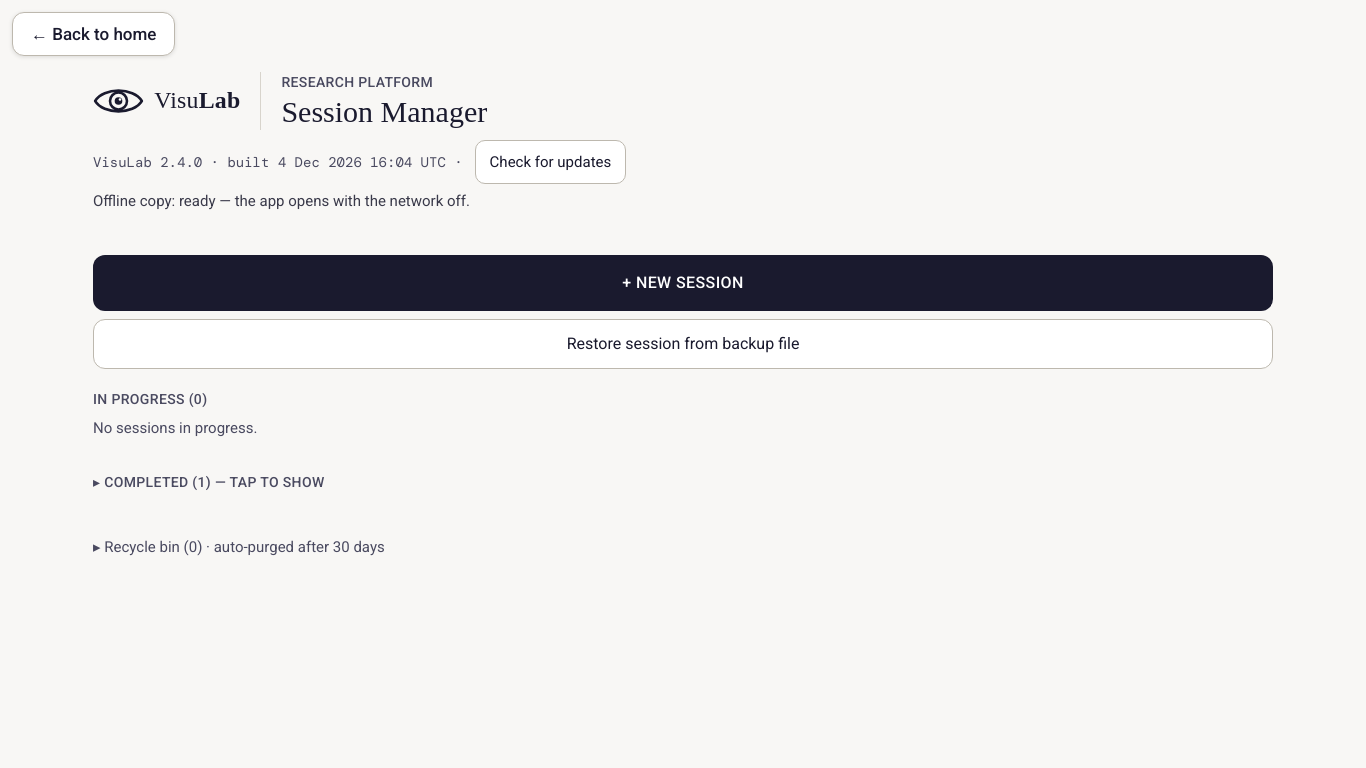
it: the screens use it › the Session Manager lists a restored sitting at the tablet's time, not the viewing device's
The image size is (1366, 768).
Click the button with test id "completed-toggle". click: (209, 482)
box: [93,460,325,504]
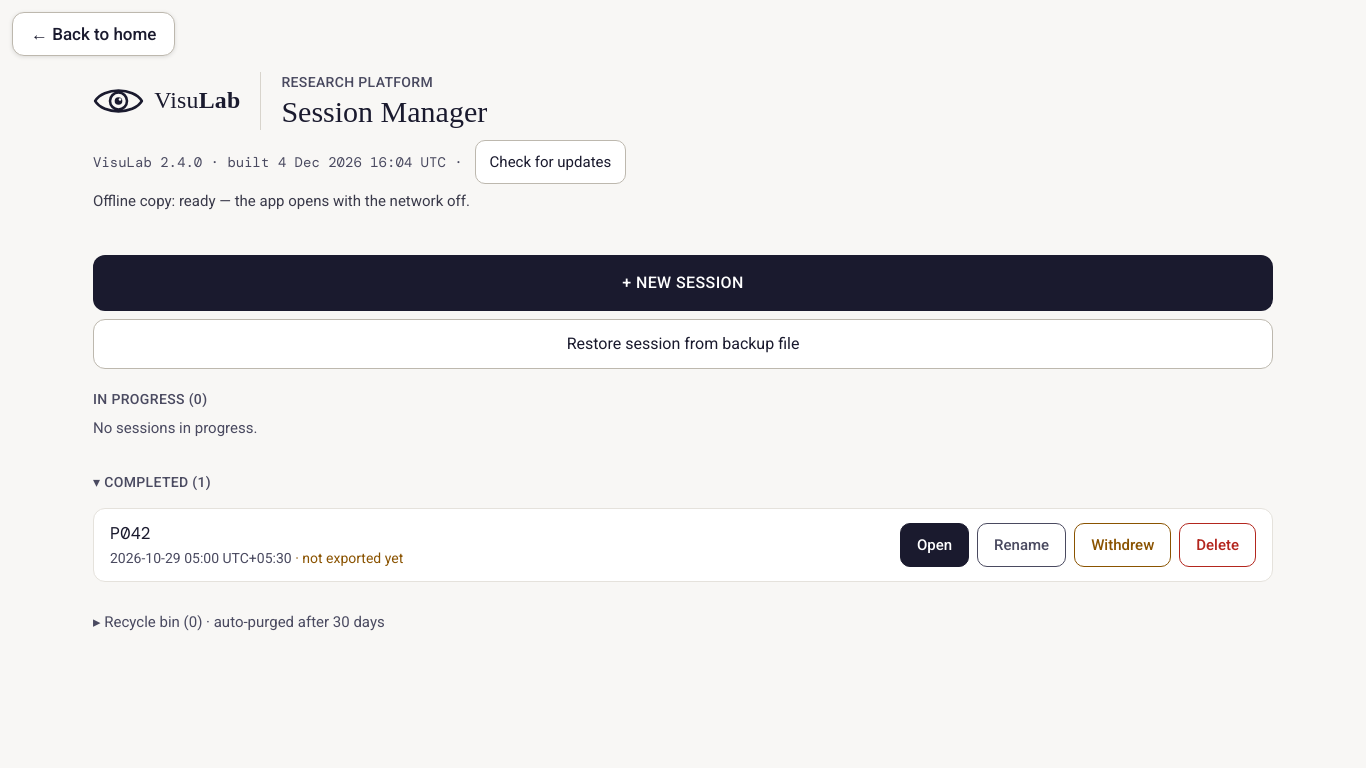
expect the text "P042" is shown: met, box [110,522,151,544]
expect the text "2026-10-29 05:00 UTC+05:30" is shown: met, box [110,550,292,566]
